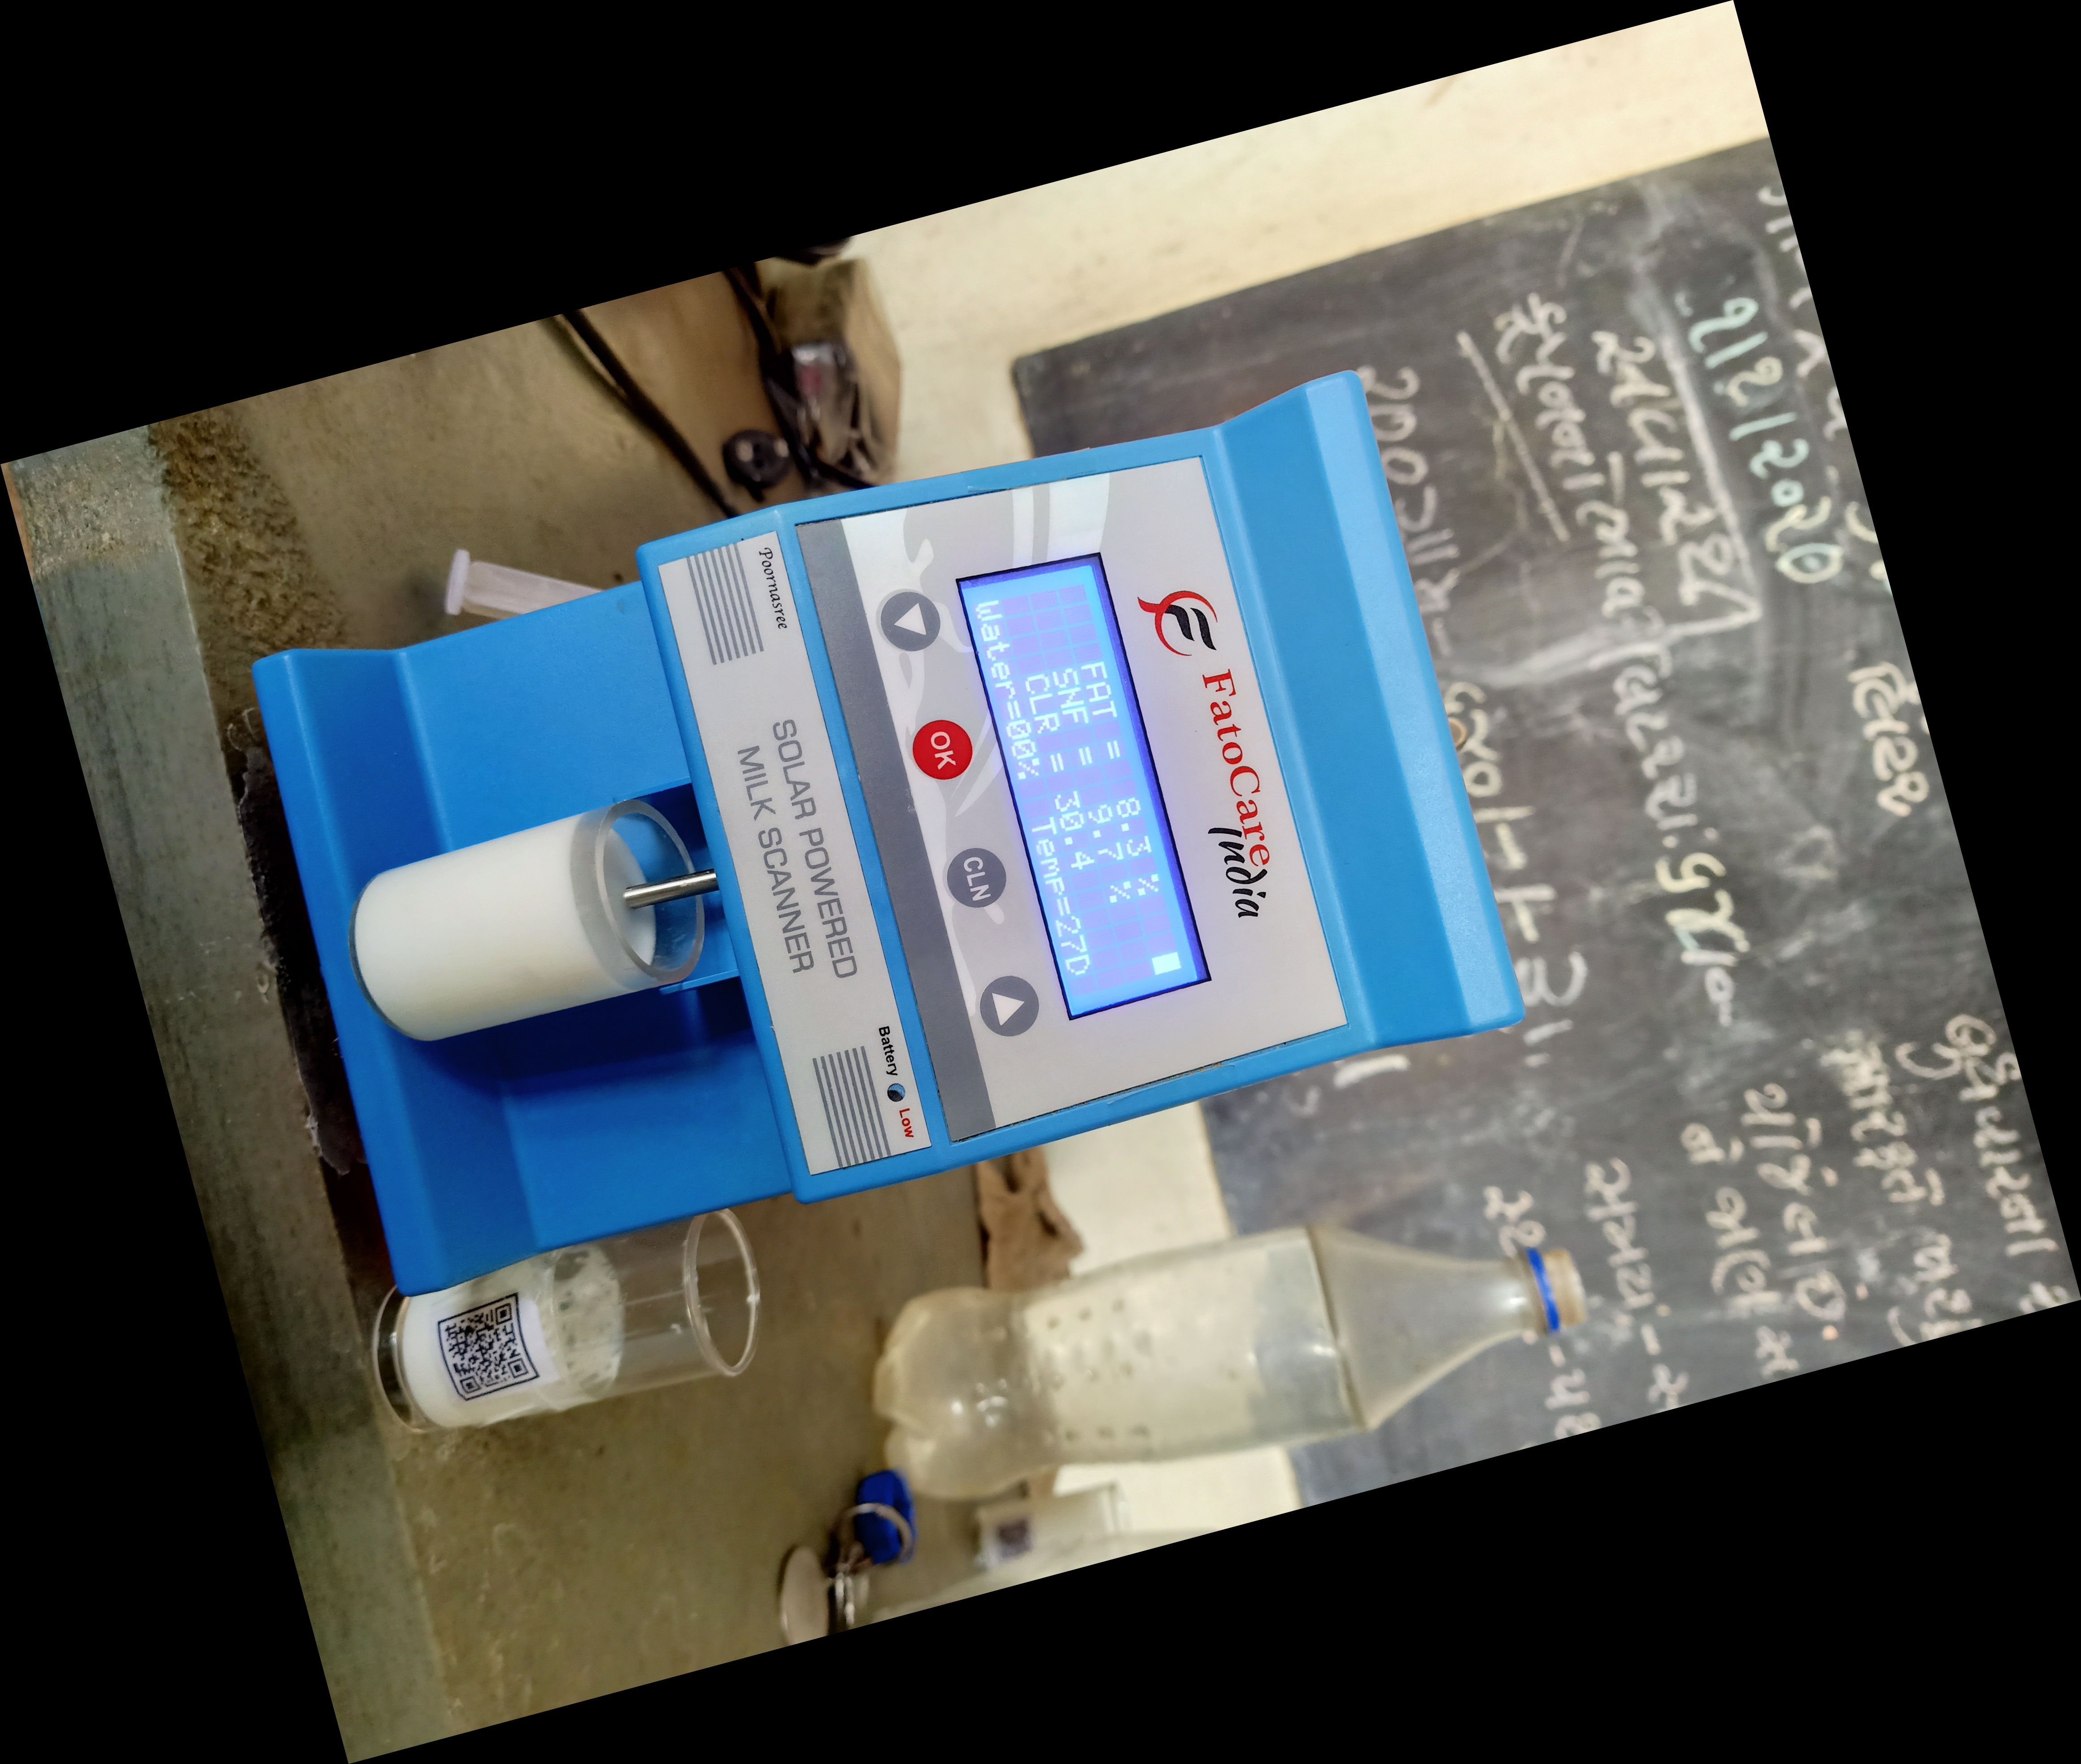lcd: (952, 514, 1232, 1050)
qr: (431, 1297, 548, 1405)
